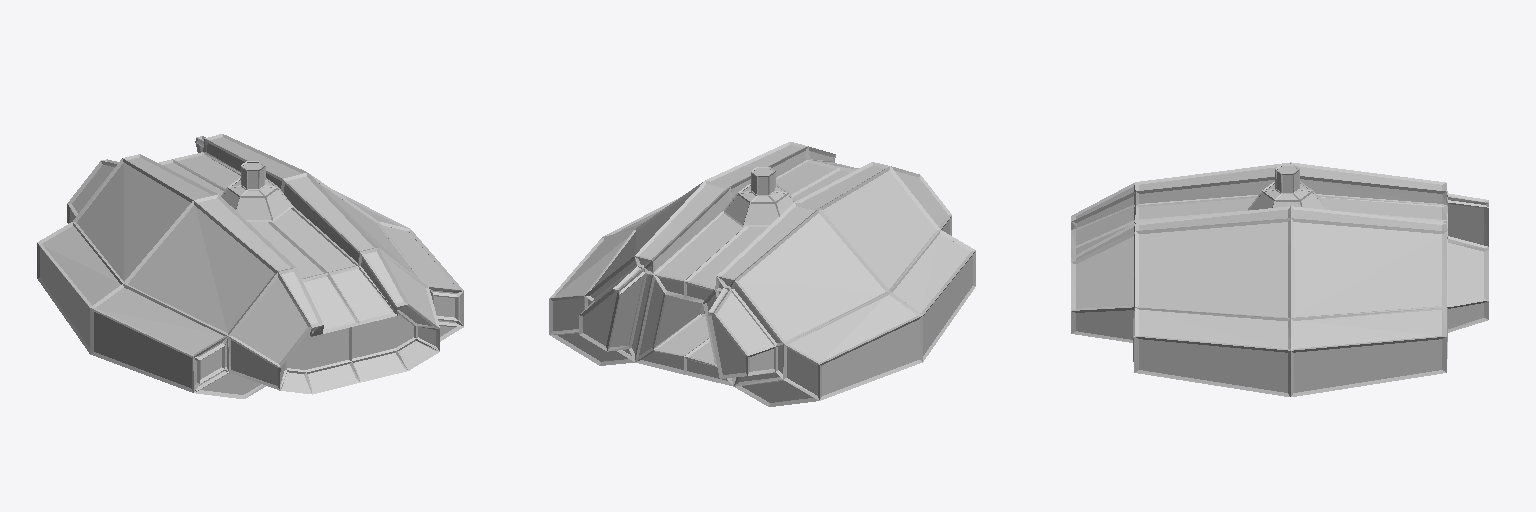
The model's file is boss_01_body.obj.
The picture shows the model from 3 angles: view 1: azimuth 30°, elevation 25°; view 2: azimuth 150°, elevation 25°; view 3: azimuth 270°, elevation 25°; orthographic projection.
Visible parts, largest first — view 1: Cube.001_Cube.005; view 2: Cube.001_Cube.005; view 3: Cube.001_Cube.005.
Part boxes in pixels (bbox=[...]): Cube.001_Cube.005: bbox=[37, 134, 463, 398]; Cube.001_Cube.005: bbox=[549, 142, 975, 406]; Cube.001_Cube.005: bbox=[1071, 162, 1488, 396].
Bounding box in the file's own units: 19.42 × 10.1 × 21.91.